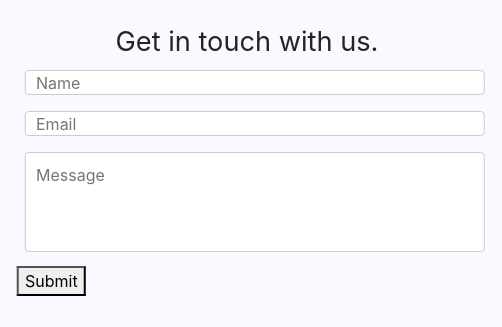
Test case: Contact form › displays error message when name is not entered
The width and height of the screenshot is (502, 327).
Type "test@example.com" into the field with placeholder "Email" at (255, 124), box x1=25 y1=111 x2=485 y2=136
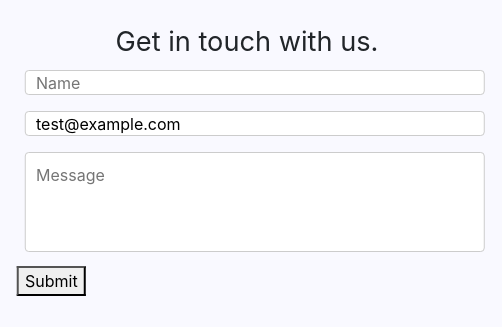
Type "Test message" into the text box with placeholder "Message" at (255, 202), box x1=25 y1=152 x2=485 y2=252
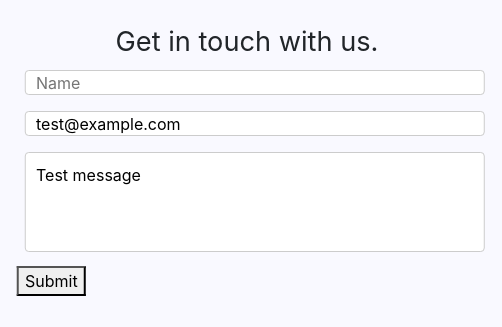
Click the button "Submit" at (51, 281), box x1=17 y1=266 x2=86 y2=296
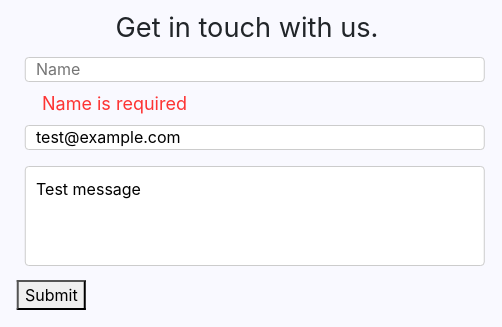
expect the text "Name is required" is shown: met, box x1=42 y1=93 x2=187 y2=114
